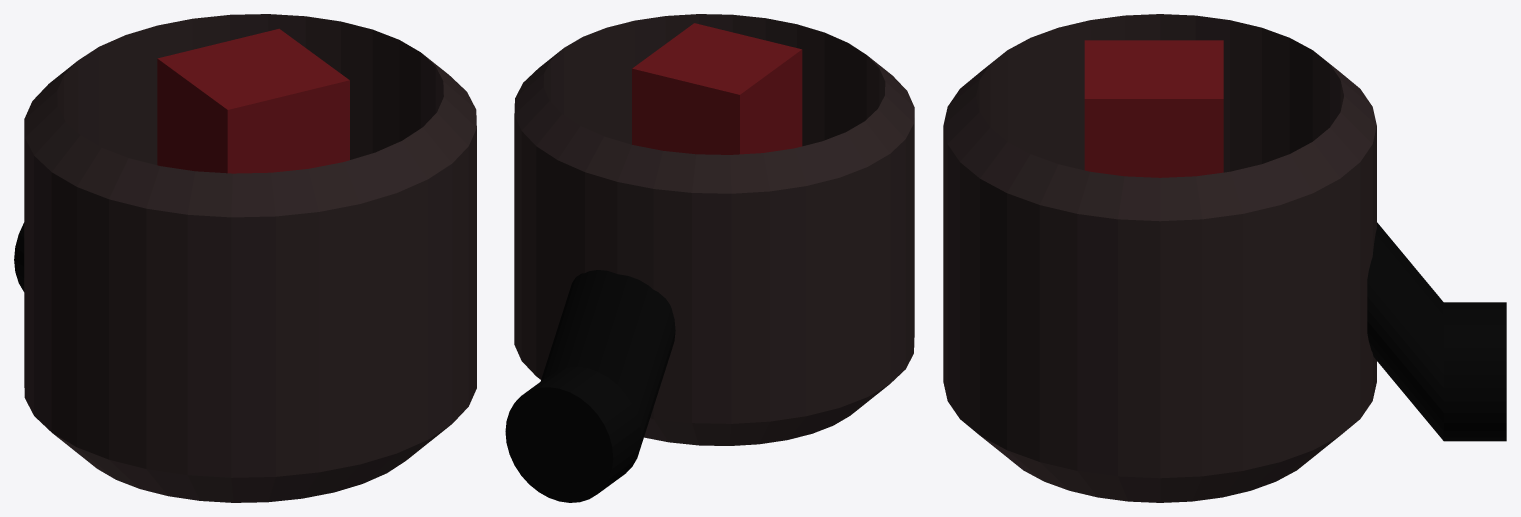
File: bulb.fbx
3 views of the same model, side by side, from view 1: azimuth 30°, elevation 25°; view 2: azimuth 150°, elevation 25°; view 3: azimuth 270°, elevation 25° (orthographic). The views are drawn at different scales.
Parts seen in each view (by area): view 1: Cup, Candle, Handle; view 2: Cup, Handle, Candle; view 3: Cup, Handle, Candle.
Boxes of the visible parts, <box> form: Cup: <box>24,14,476,502</box>; Candle: <box>157,28,349,173</box>; Handle: <box>14,222,24,291</box>; Cup: <box>514,14,914,445</box>; Handle: <box>505,270,675,502</box>; Candle: <box>632,23,802,154</box>; Cup: <box>943,14,1376,502</box>; Handle: <box>1367,222,1506,441</box>; Candle: <box>1084,40,1223,177</box>.
Size of the model in its own units: 130 by 116 by 162.
